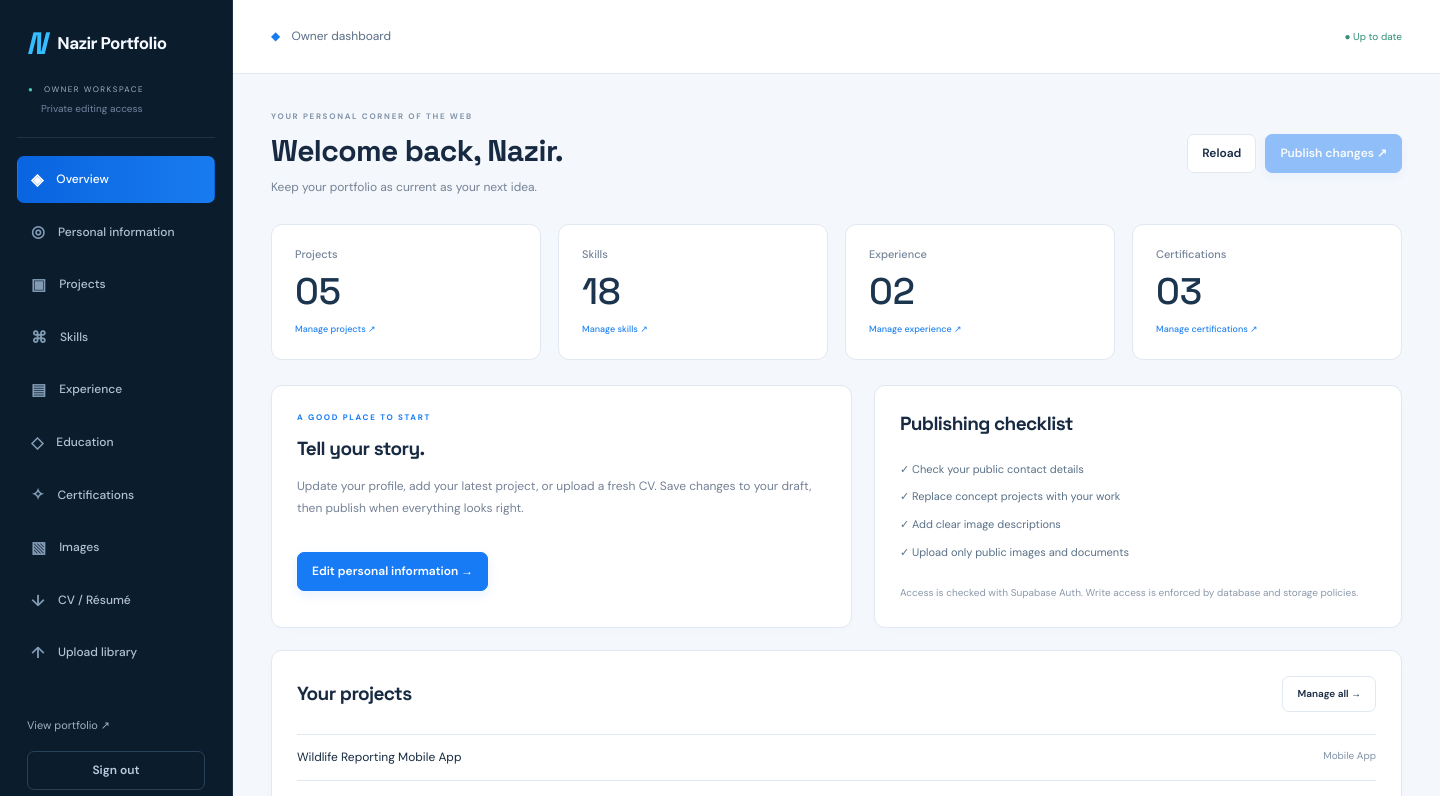
Test: owner can remove a project from draft and explicitly publish
Click the button "▣ Projects" at x=116, y=285, box [17,261,215,309]
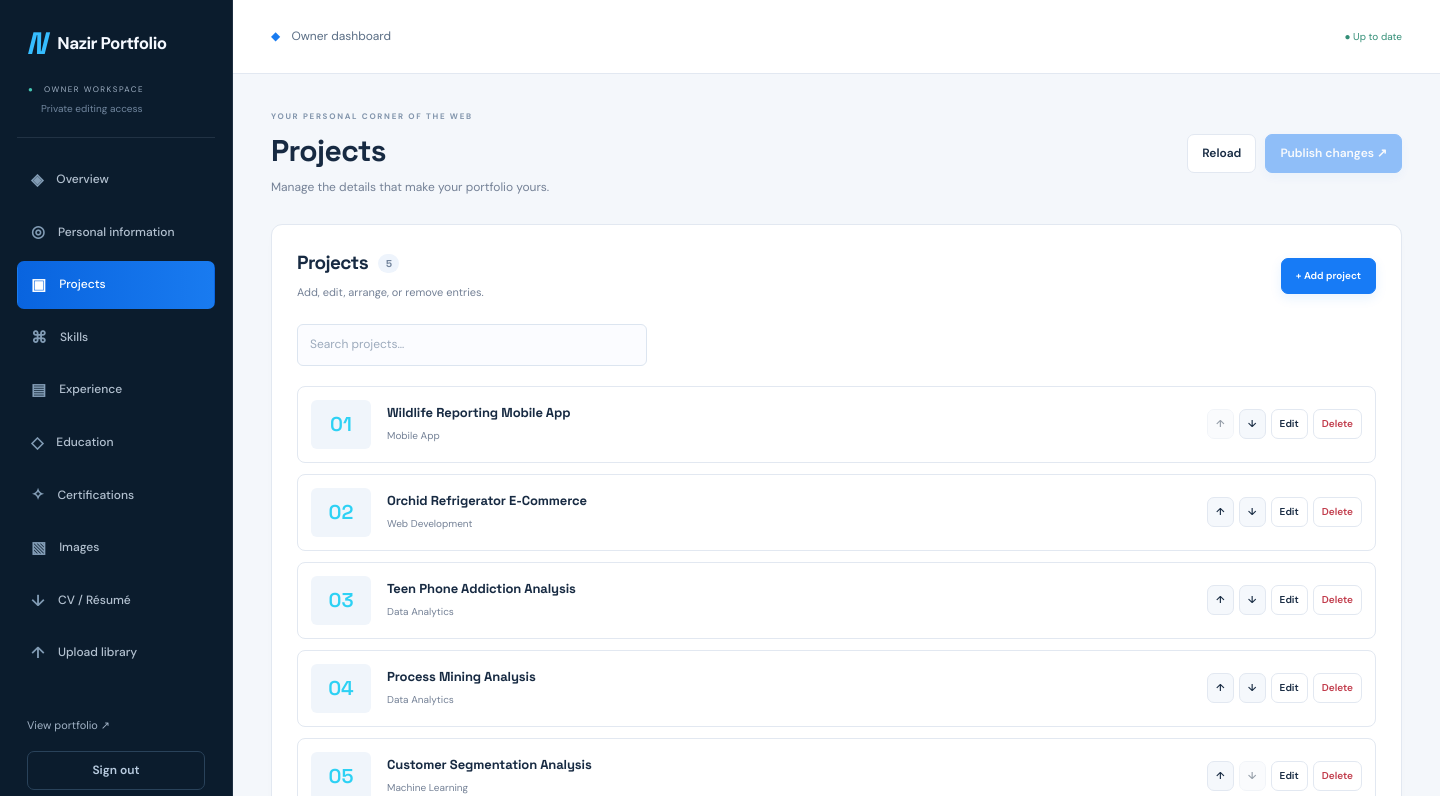
Click the button with aria-label "Delete Wildlife Reporting Mobile App" at x=1337, y=424, box [1313,409,1362,439]
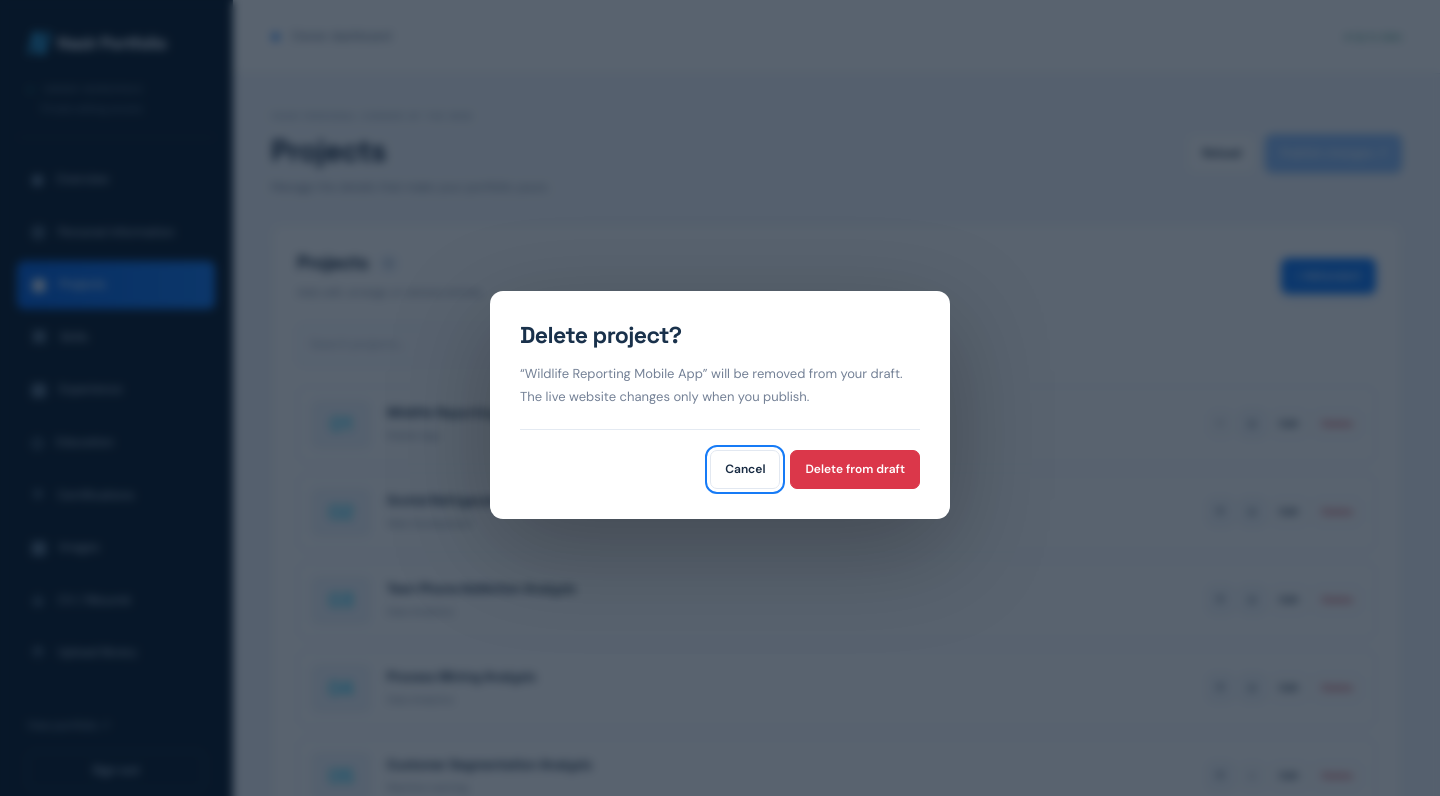
Click the button "Delete from draft" at x=855, y=469, box [790,450,920,489]
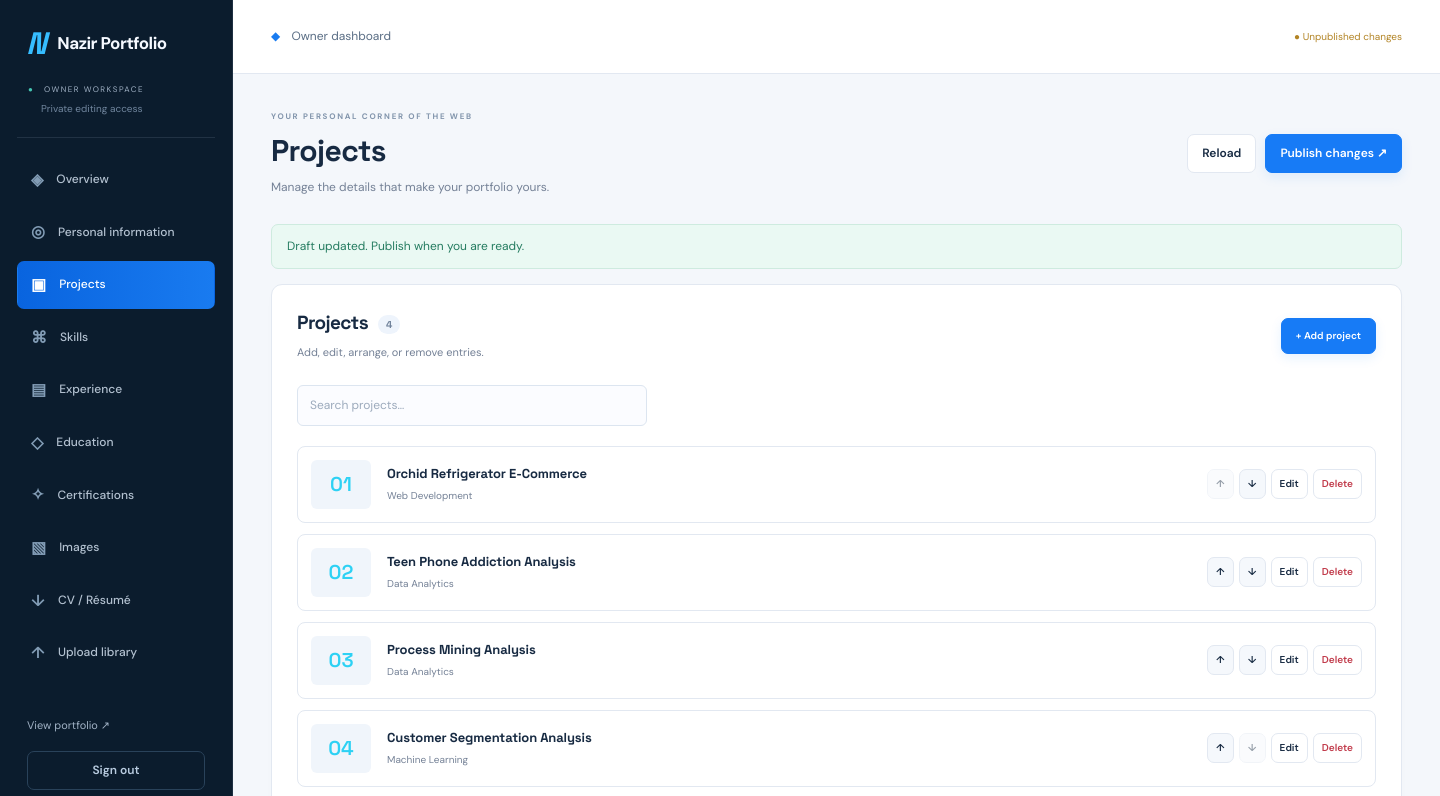
Now the number of elements with class "admin-item" is 4, box [297,446,1376,523]; [297,534,1376,611]; [297,622,1376,699]; [297,710,1376,787]
Click the button "Publish changes ↗" at x=1334, y=154, box [1265,134,1402,173]
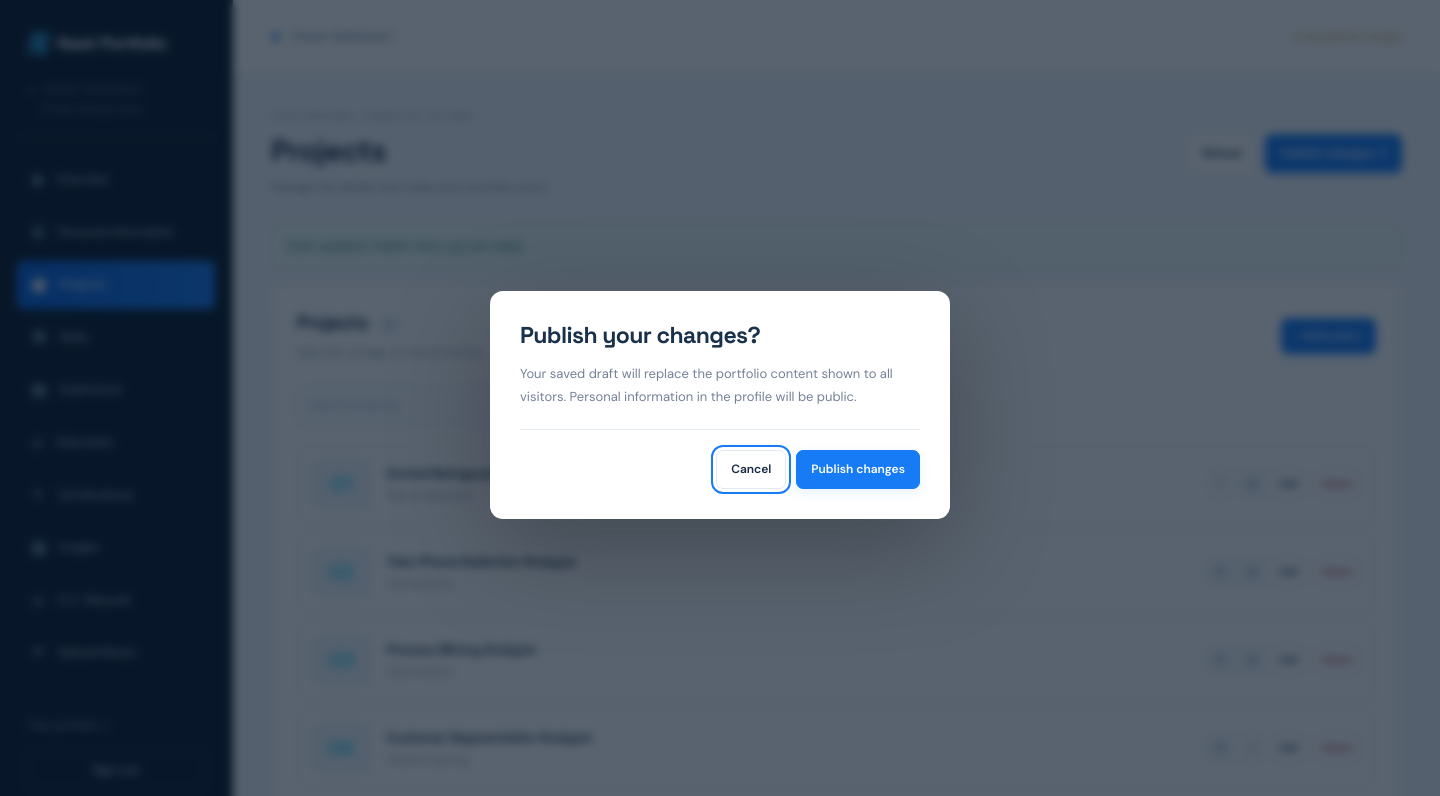
Click the button "Publish changes" at x=858, y=469, box [796,450,920,489]
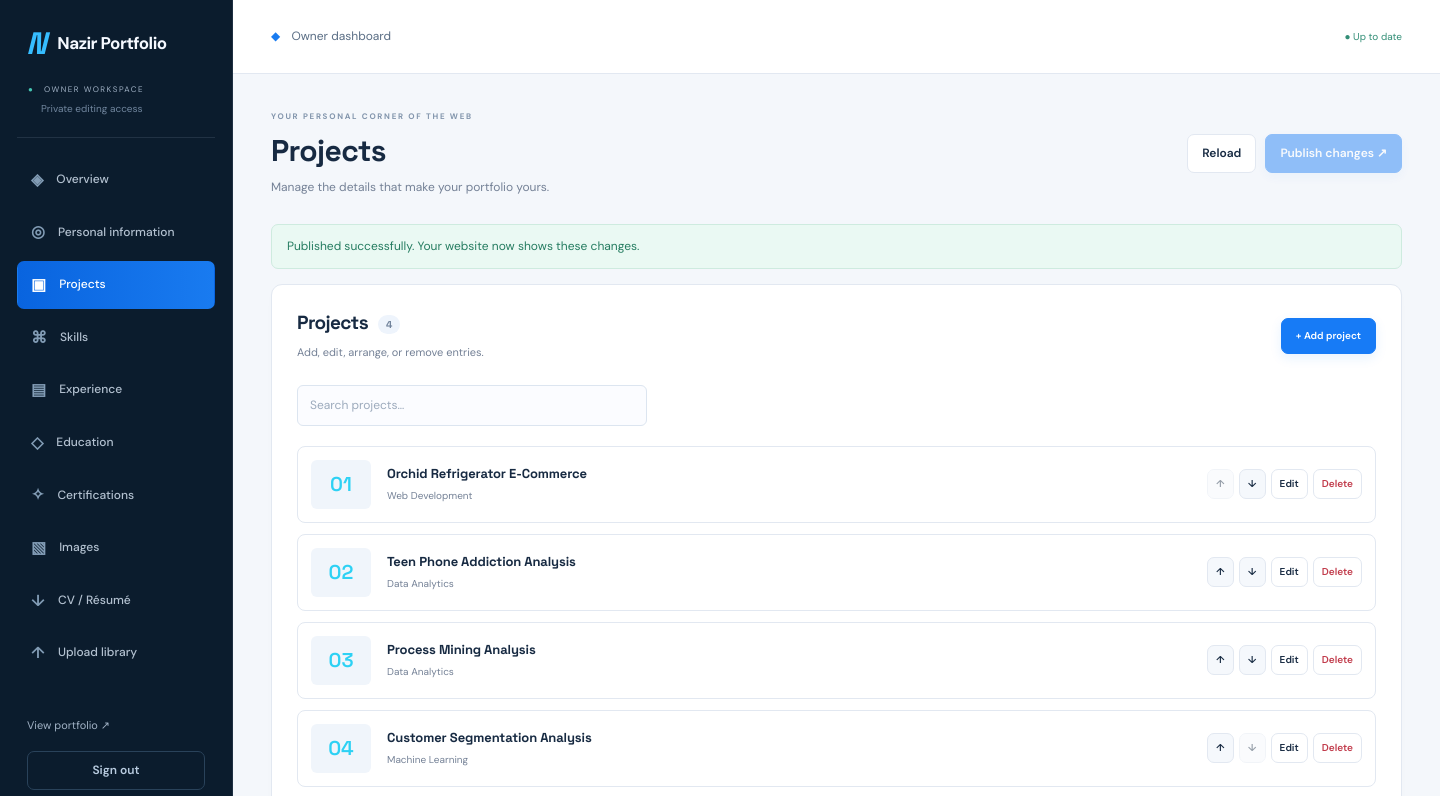
Now the text "Published successfully" is shown, box [287,238,639,254]
